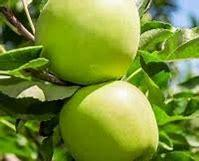apple: (50, 80, 173, 161), (32, 2, 144, 88)
